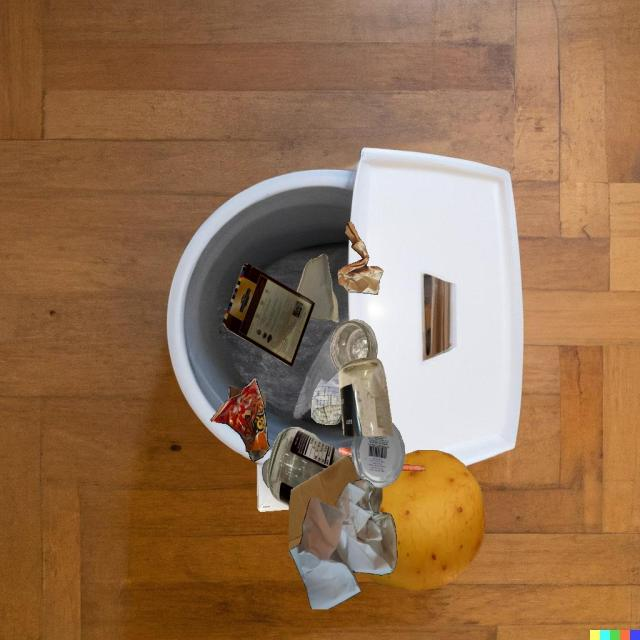biowaste: (360, 450, 486, 591), (402, 464, 425, 471), (339, 447, 352, 455)
cardboard: (222, 264, 315, 367), (289, 456, 362, 558), (297, 254, 340, 323), (228, 385, 242, 400), (260, 392, 265, 408)
glass: (267, 427, 344, 506), (339, 358, 394, 436), (330, 319, 377, 372), (262, 458, 270, 488)
paper: (290, 479, 397, 609), (337, 222, 384, 295), (311, 371, 342, 425), (257, 463, 289, 512)
plastic: (351, 422, 405, 488)
trash: (211, 379, 270, 461)
